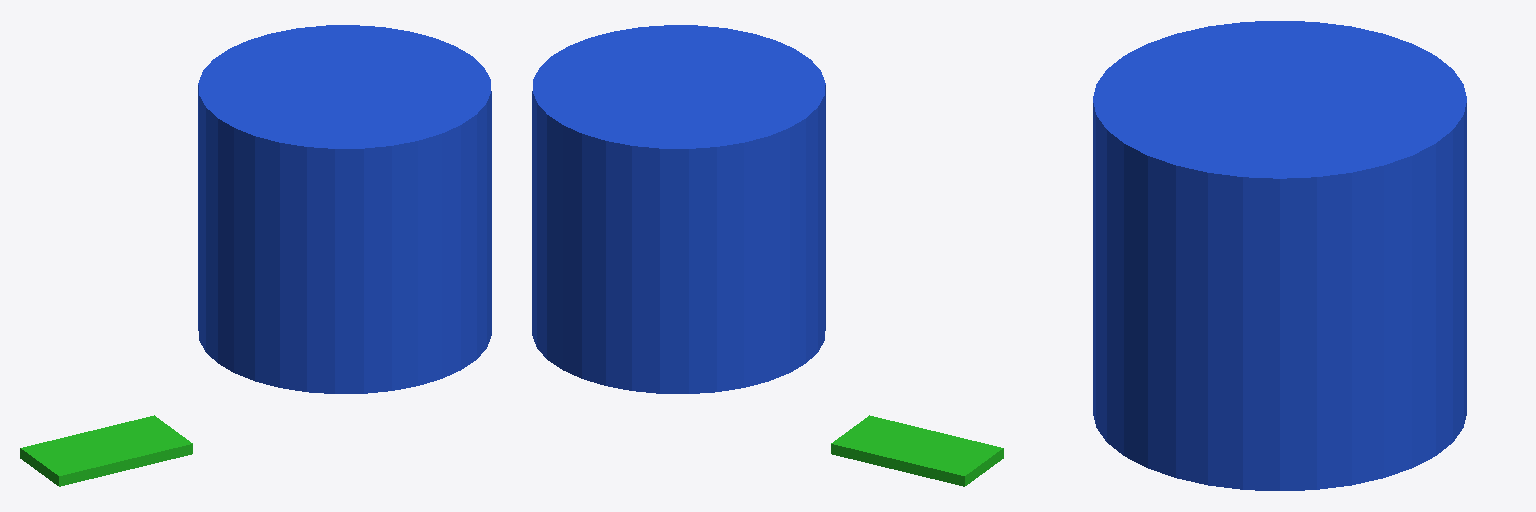
URDF robot description (seesaw):
<?xml version="1.0"?>
<robot name="seesaw">

  <link name="base_link"/>

  <link name="pitch_pivot_link"/>

  <joint name="base_to_pitch_pivot" type="fixed">
    <parent link="base_link"/>
    <child link="pitch_pivot_link"/>
    <origin xyz="0 0 0" rpy="0 0 0"/>
  </joint>

  <link name="lidar_link">
    <visual>
      <origin xyz="0.016764 0 0.030734" rpy="0 0 0"/>
      <geometry>
        <cylinder radius="0.038" length="0.070"/>
      </geometry>
      <material name="blue">
        <color rgba="0.2 0.4 0.9 1.0"/>
      </material>
    </visual>
  </link>

  <joint name="pitch_joint" type="revolute">
    <parent link="pitch_pivot_link"/>
    <child link="lidar_link"/>
    <origin xyz="0 0 0" rpy="0 0 0"/>
    <axis xyz="0 1 0"/>
    <limit lower="-1.57" upper="1.57" effort="1.0" velocity="5.0"/>
  </joint>

  <link name="imu_link">
    <visual>
      <origin xyz="0 0 0" rpy="0 0 0"/>
      <geometry>
        <box size="0.040 0.020 0.003"/>
      </geometry>
      <material name="green">
        <color rgba="0.2 0.8 0.2 1.0"/>
      </material>
    </visual>
  </link>

  <joint name="lidar_to_imu" type="fixed">
    <parent link="lidar_link"/>
    <child link="imu_link"/>
    <origin xyz="-0.054356 0 -0.021590" rpy="3.141592653589793 0 0"/>
  </joint>

</robot>

--- Facts derived from the render (not from the file) ---
3 views of the same robot in one strip: view 1: azimuth 30°, elevation 25°; view 2: azimuth 150°, elevation 25°; view 3: azimuth 270°, elevation 25° (orthographic).
Robot: seesaw — 4 links, 3 joints (1 revolute, 2 fixed); root link base_link; default pose: all joints at 0.
Visible links, largest first — view 1: lidar_link, imu_link; view 2: lidar_link, imu_link; view 3: lidar_link.
Link boxes in pixels (x1,y1,x2,y2): lidar_link: [198, 25, 491, 393]; imu_link: [20, 415, 192, 486]; lidar_link: [532, 25, 825, 393]; imu_link: [831, 415, 1003, 486]; lidar_link: [1093, 21, 1466, 490].
Bounding box of the posed robot: 0.1291 × 0.076 × 0.0888 m (x, y, z).
Geometry: primitives only (box / cylinder / sphere), no mesh files.
